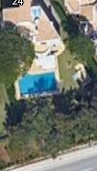pool: (21, 76, 55, 91)
